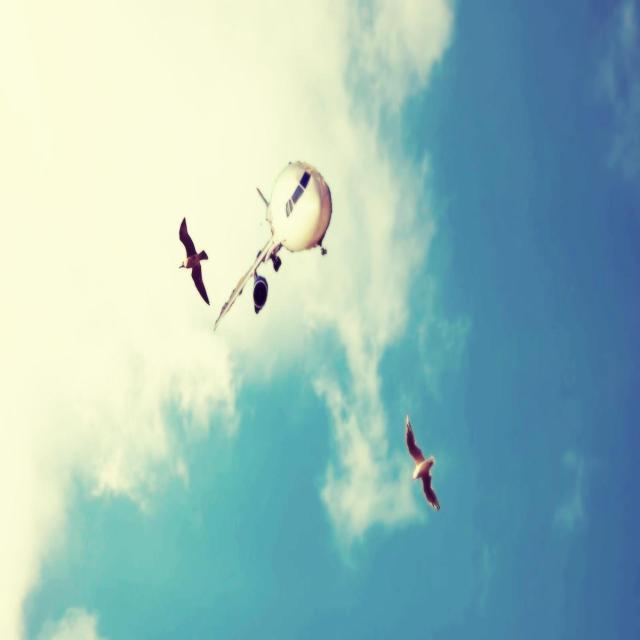airplane: (213, 159, 332, 331)
